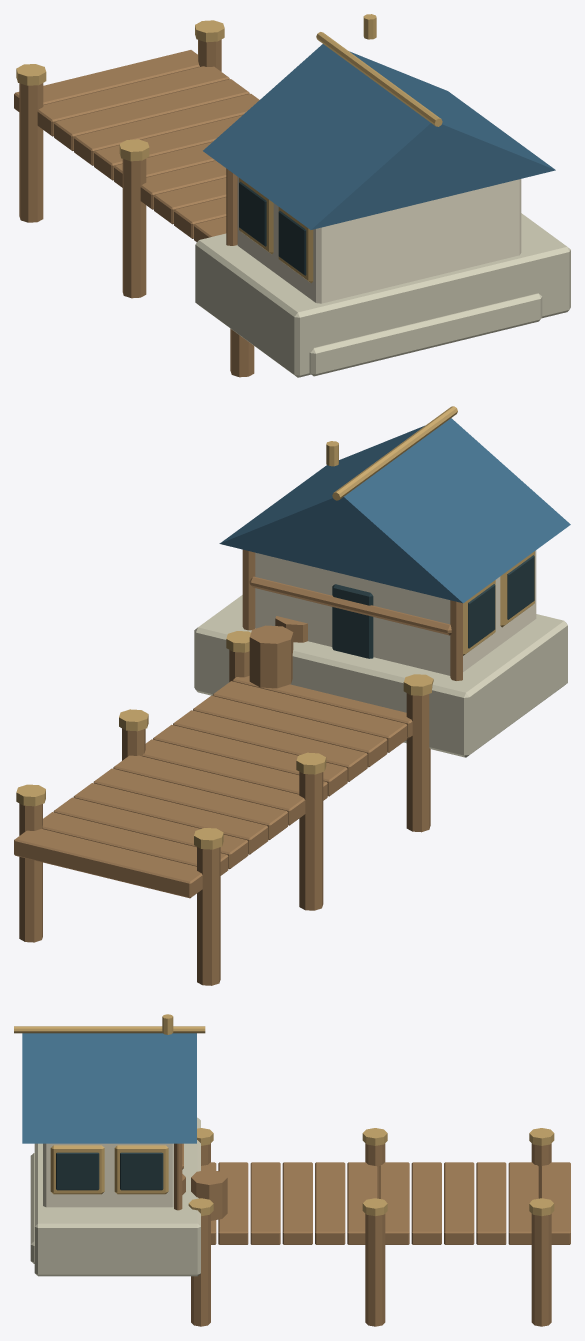
File: level_01.glb
The picture shows the model from 3 angles, top to bottom: view 1: azimuth 30°, elevation 25°; view 2: azimuth 150°, elevation 25°; view 3: azimuth 270°, elevation 25°; orthographic projection. The views are drawn at different scales.
Visible parts, largest first — view 1: fishing_wharf — level 01; view 2: fishing_wharf — level 01; view 3: fishing_wharf — level 01.
Boxes of the visible parts, x1,y1,x2,y2 form: fishing_wharf — level 01: (14,14,570,377); fishing_wharf — level 01: (14,406,570,985); fishing_wharf — level 01: (14,1014,570,1326).
Size of the model in its own units: 3.1 by 3.69 by 6.7.
